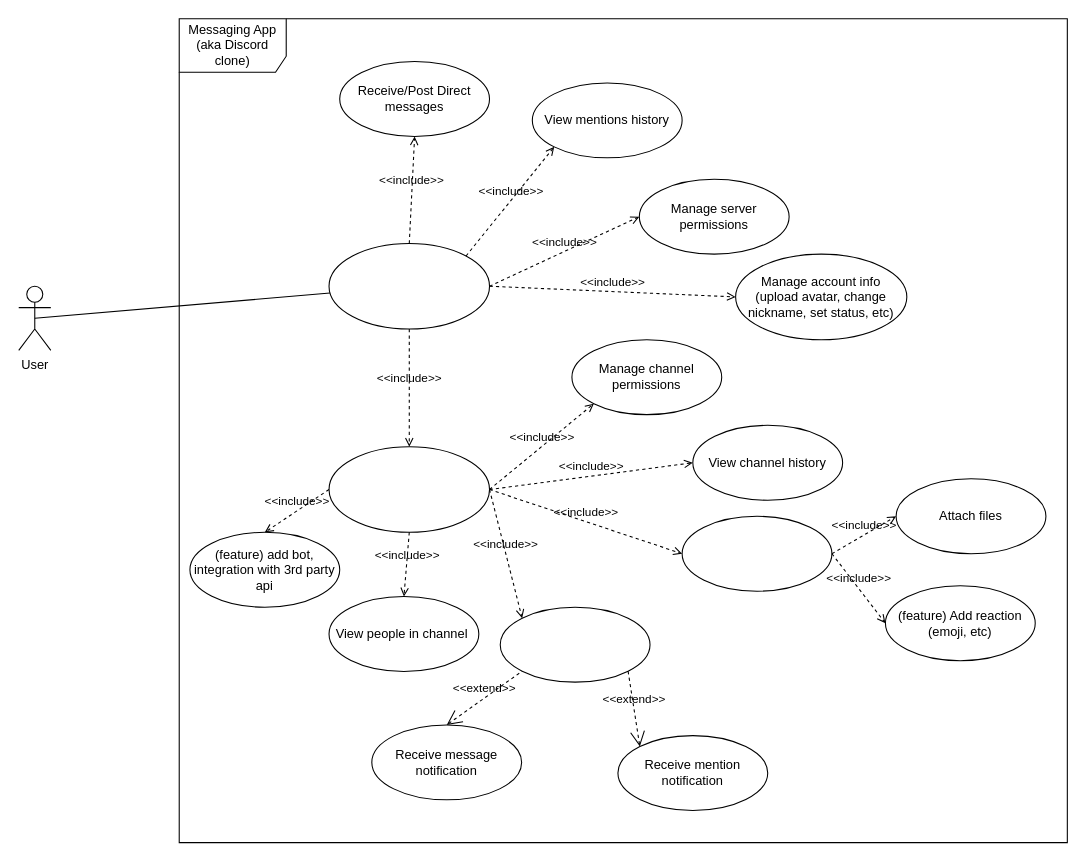
The diagram is 1086 pixels wide and 861 high, and some of its shapes have lost their labels. The centre of each missing label's shape, as x and y in pixels:
Manage Channel (view, create, remove, join, leave, invite user): (409,489)
Manage Server (view, create, remove, join, leave, invite user): (409,285)
Post message: (756,553)
Receive notifications: (574,644)
